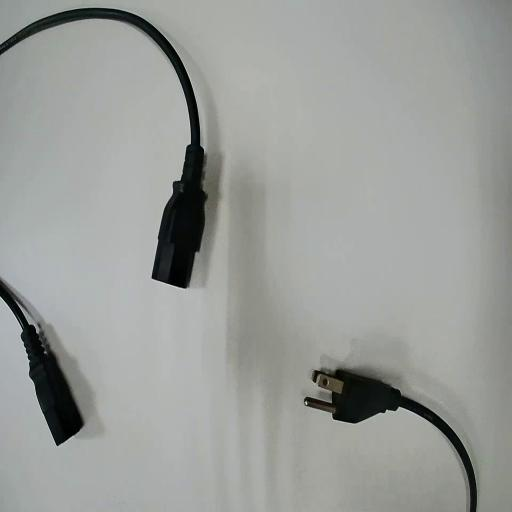wire: (0, 9, 207, 286), (305, 369, 476, 511)
